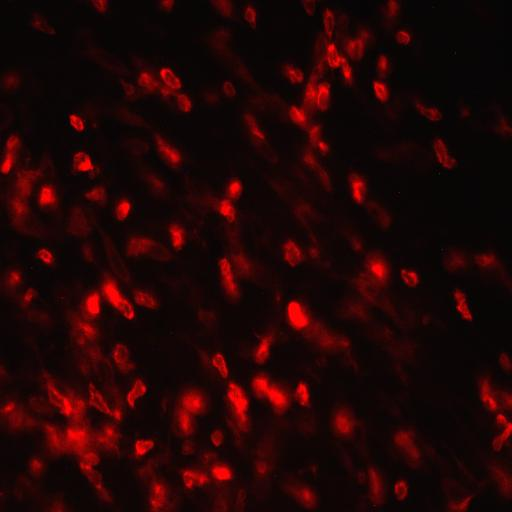microglia: (103, 282, 134, 319), (254, 375, 286, 409), (88, 381, 117, 417), (283, 298, 311, 334), (392, 428, 421, 462), (154, 133, 182, 168), (48, 380, 74, 416), (218, 258, 238, 302), (432, 138, 458, 170), (1, 133, 21, 174), (365, 468, 387, 505), (226, 382, 248, 418), (80, 452, 102, 487), (441, 246, 469, 273), (347, 172, 368, 206), (478, 378, 500, 410), (180, 388, 206, 414), (492, 417, 512, 450), (326, 42, 348, 72), (30, 12, 56, 36), (454, 288, 472, 322), (380, 0, 401, 28), (332, 409, 354, 435), (174, 407, 194, 435), (244, 113, 265, 139), (127, 380, 146, 408), (416, 102, 442, 122), (150, 482, 170, 508), (309, 125, 327, 153), (181, 469, 207, 488), (283, 240, 301, 266), (160, 68, 182, 89), (112, 344, 131, 368), (134, 290, 158, 309), (346, 37, 365, 61), (73, 152, 93, 174), (4, 270, 22, 294), (86, 184, 106, 204), (2, 70, 20, 92), (212, 353, 228, 377), (255, 336, 270, 361), (114, 198, 131, 220), (316, 84, 330, 110), (66, 427, 85, 446), (400, 268, 418, 288), (373, 81, 389, 102), (219, 201, 235, 221), (296, 381, 309, 405), (135, 439, 154, 455), (39, 187, 55, 206), (212, 465, 232, 480), (474, 252, 494, 267), (324, 9, 334, 38), (27, 458, 43, 476), (394, 480, 408, 500), (86, 294, 100, 314), (244, 6, 256, 29), (36, 248, 53, 264), (290, 106, 305, 124), (138, 71, 153, 89), (171, 229, 184, 249), (69, 114, 84, 131), (177, 94, 191, 112), (228, 179, 242, 197), (288, 68, 303, 84), (23, 288, 38, 304), (498, 352, 510, 372), (120, 79, 134, 96), (210, 430, 224, 446), (370, 262, 384, 278), (376, 55, 387, 75), (302, 0, 315, 16), (305, 82, 316, 100), (182, 440, 196, 454), (92, 0, 107, 13), (223, 81, 235, 97), (396, 30, 409, 44), (160, 0, 174, 13), (4, 402, 14, 412)
